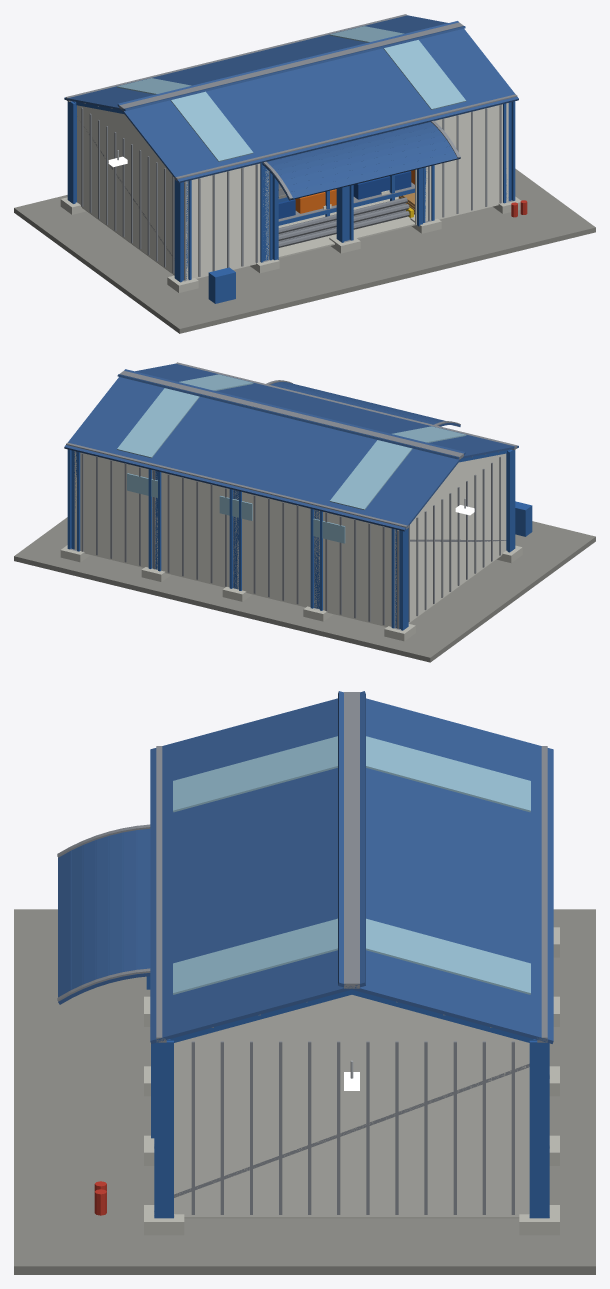
File: warehouse.glb
3 views of the same model, one above another, from view 1: azimuth 30°, elevation 25°; view 2: azimuth 150°, elevation 25°; view 3: azimuth 270°, elevation 25° (orthographic). The views are drawn at different scales.
Visible parts, largest first — view 1: Warehouse; view 2: Warehouse; view 3: Warehouse.
Boxes of the visible parts, x1,y1,x2,y2 form: Warehouse: [14, 14, 595, 333]; Warehouse: [14, 362, 595, 662]; Warehouse: [14, 691, 595, 1274].
Bounding box in the file's own units: 18 × 6.47 × 12.4.
